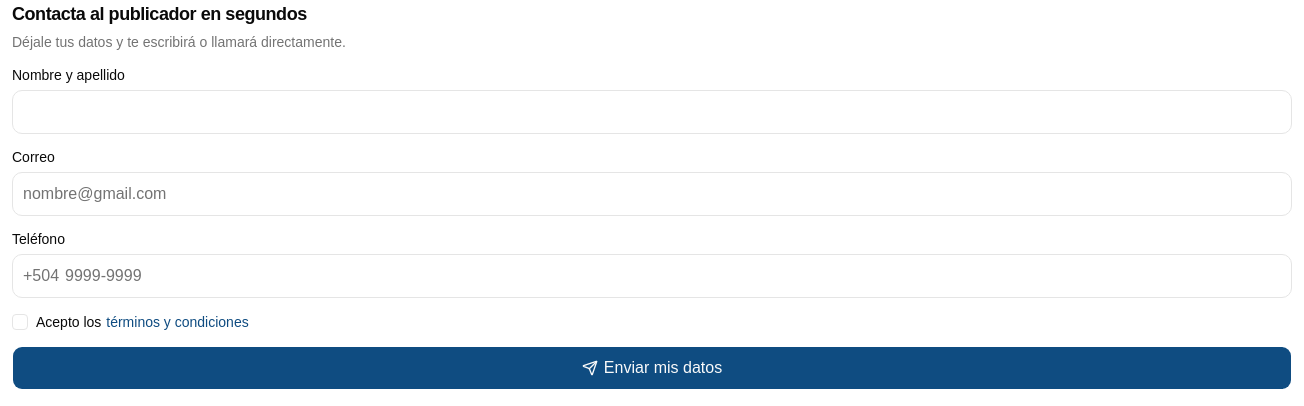
PropertyQuoteForm › el teléfono trae fijo el prefijo de Honduras: solo se escribe el número
Type "99998888" into the field labelled "Teléfono" at (675, 276), box top-left (59, 255), bottom-right (1291, 297)
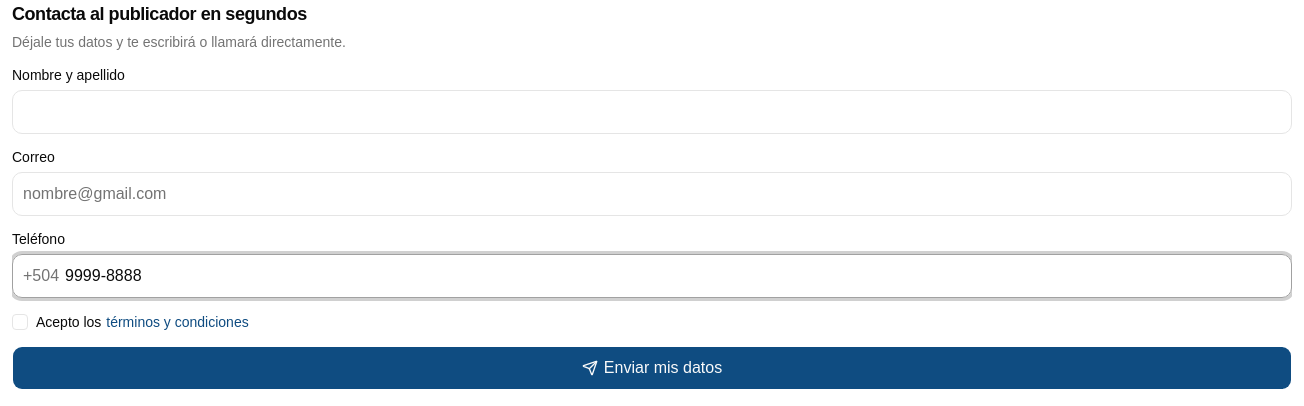
Expected: the text "+504" is shown, top-left (23, 264), bottom-right (59, 288)
Expected: the field labelled "Teléfono" holds "9999-8888", top-left (59, 255), bottom-right (1291, 297)
